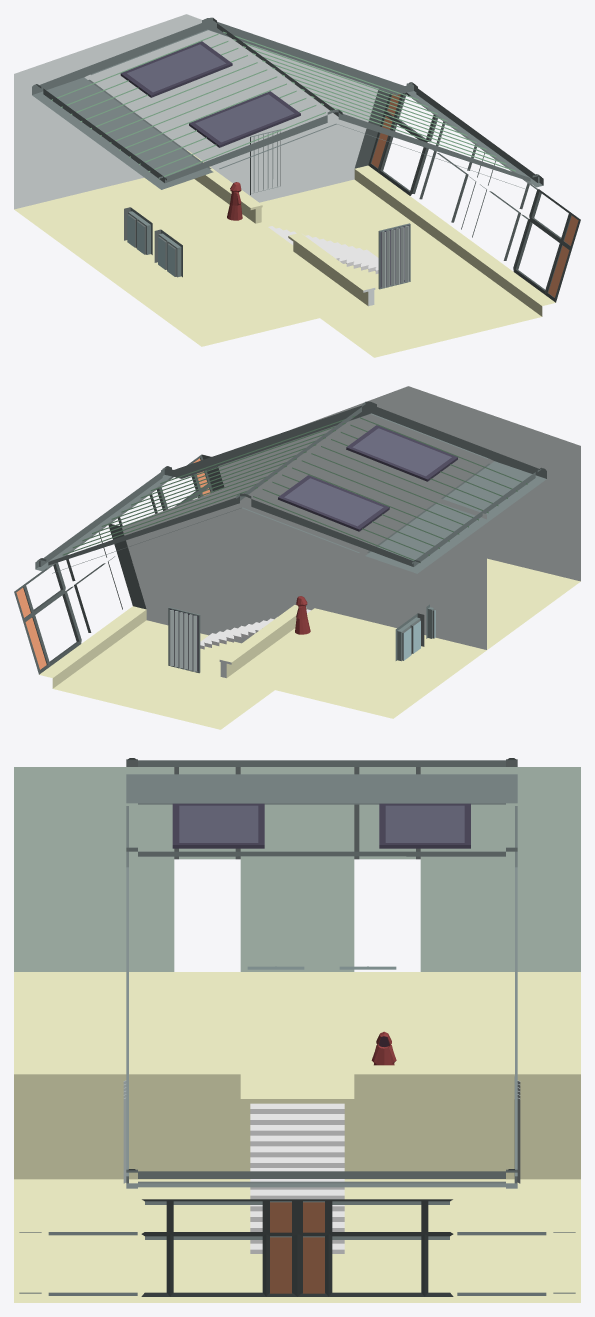
File: Studio_IMU.glb
3 views of the same model, one above another, from view 1: azimuth 30°, elevation 25°; view 2: azimuth 150°, elevation 25°; view 3: azimuth 270°, elevation 25° (orthographic). The views are drawn at different scales.
Parts seen in each view (by area): view 1: Volume, Studios.004, Studios.003, Studios.002, Studios.001, Avatar_capuchon; view 2: Volume, Studios.004, Studios.003, Studios.002, Studios.001, Avatar_capuchon; view 3: Volume, Studios.004, Studios.003, Studios.002.
Part boxes in pixels (x1,y1,x2,y2): Volume: (14, 14, 580, 357); Studios.004: (32, 17, 543, 189); Studios.003: (120, 41, 300, 147); Studios.002: (250, 129, 410, 289); Studios.001: (124, 207, 182, 277); Avatar_capuchon: (227, 182, 242, 220); Volume: (14, 386, 580, 729); Studios.004: (35, 401, 546, 573); Studios.003: (278, 425, 457, 531); Studios.002: (168, 607, 200, 673); Studios.001: (395, 604, 435, 661); Avatar_capuchon: (295, 596, 310, 634); Volume: (14, 767, 580, 1302); Studios.004: (126, 758, 517, 1188); Studios.003: (172, 803, 470, 848); Studios.002: (123, 1076, 520, 1183).
Size of the model in its own units: 19 by 10.3 by 16.06.
Materials: 3 (2 with a texture image).
